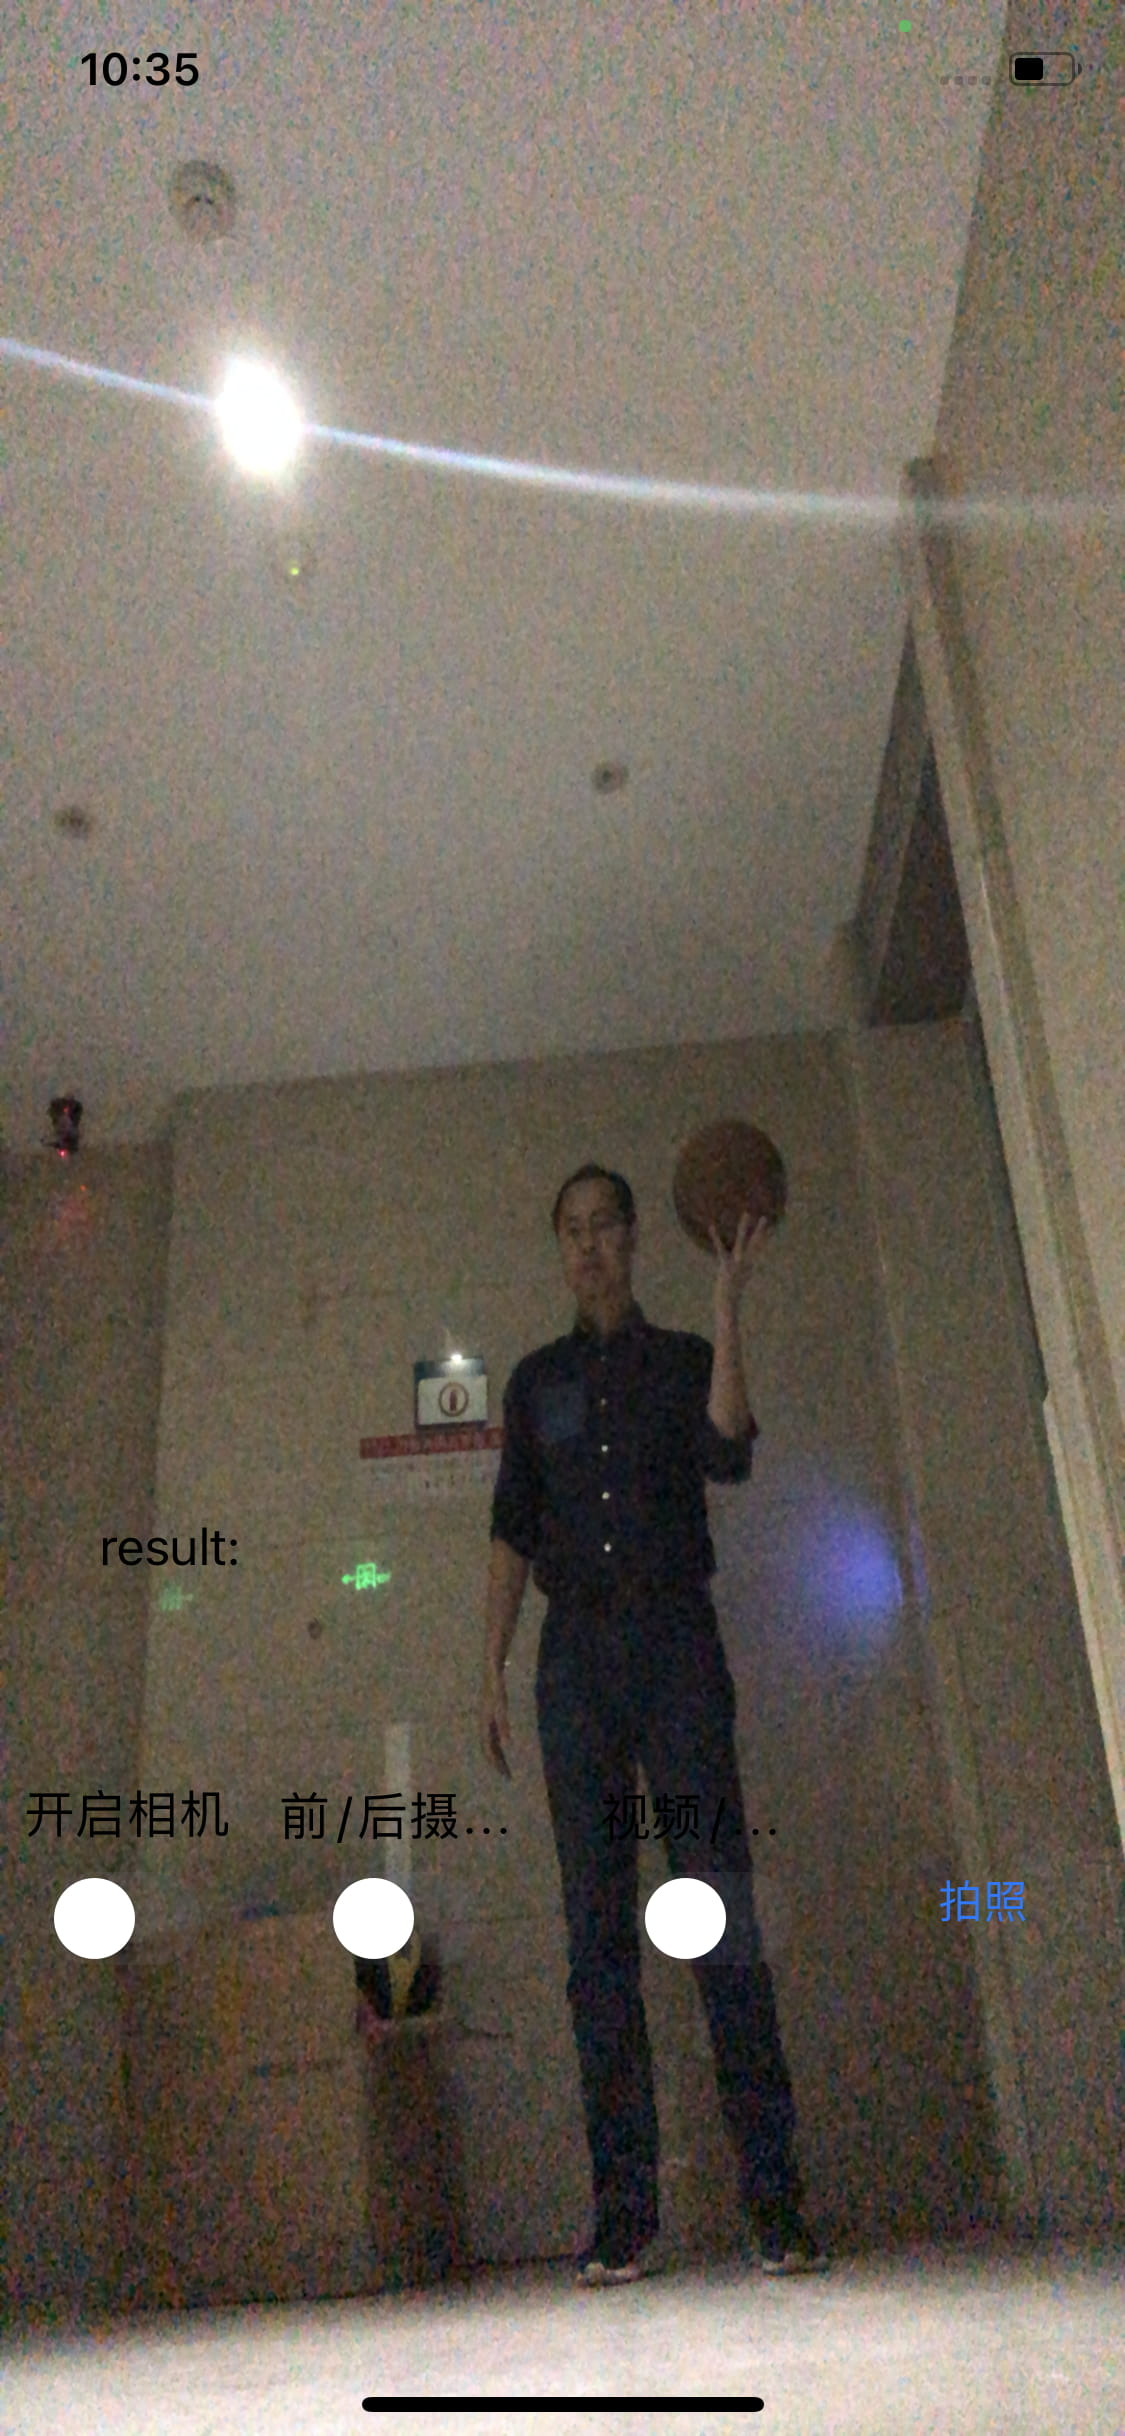ball: (670, 1120, 785, 1249)
